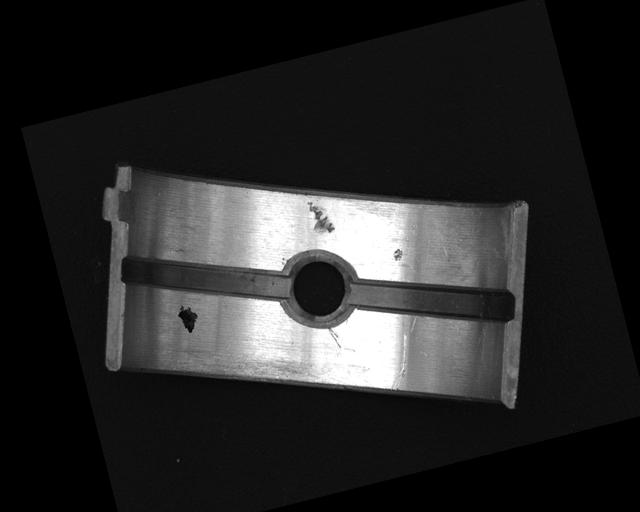blot: (175, 301, 201, 336)
bruise: (306, 196, 338, 237), (391, 246, 406, 263)
gap: (117, 221, 293, 337), (348, 246, 516, 355)
hole: (273, 244, 365, 338)
nick: (379, 333, 421, 391), (326, 323, 343, 350)
scratch: (166, 329, 309, 413)
